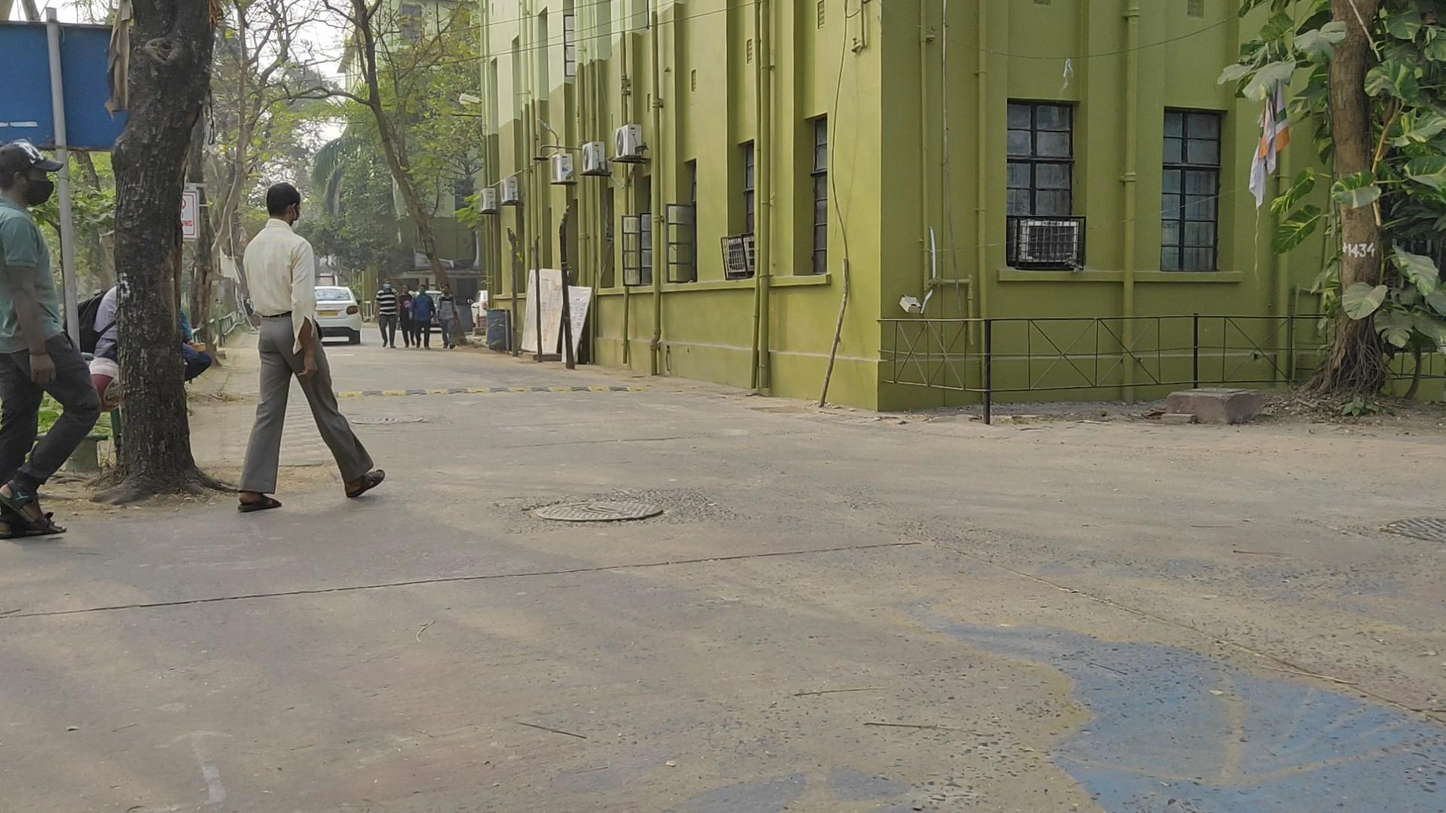car: (313, 282, 362, 344)
